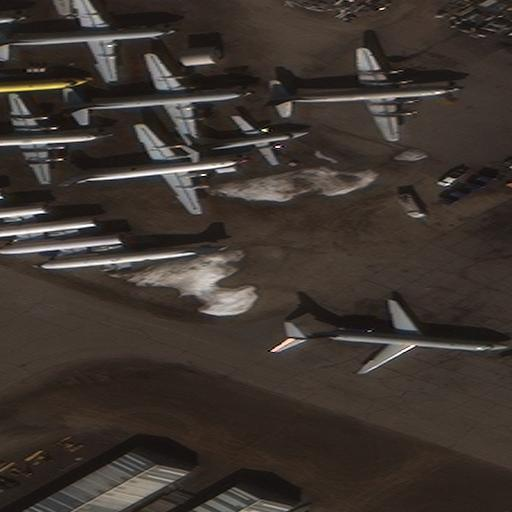Large Civil Transport: (50, 52, 253, 147)
Medium Civil Transport: (263, 46, 459, 140), (56, 122, 248, 213), (284, 299, 507, 374), (0, 0, 175, 81), (0, 93, 113, 183), (187, 114, 308, 164), (0, 63, 89, 116)
